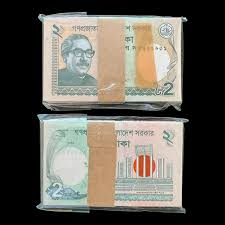2_taka: (47, 126, 174, 202), (53, 25, 176, 96)
